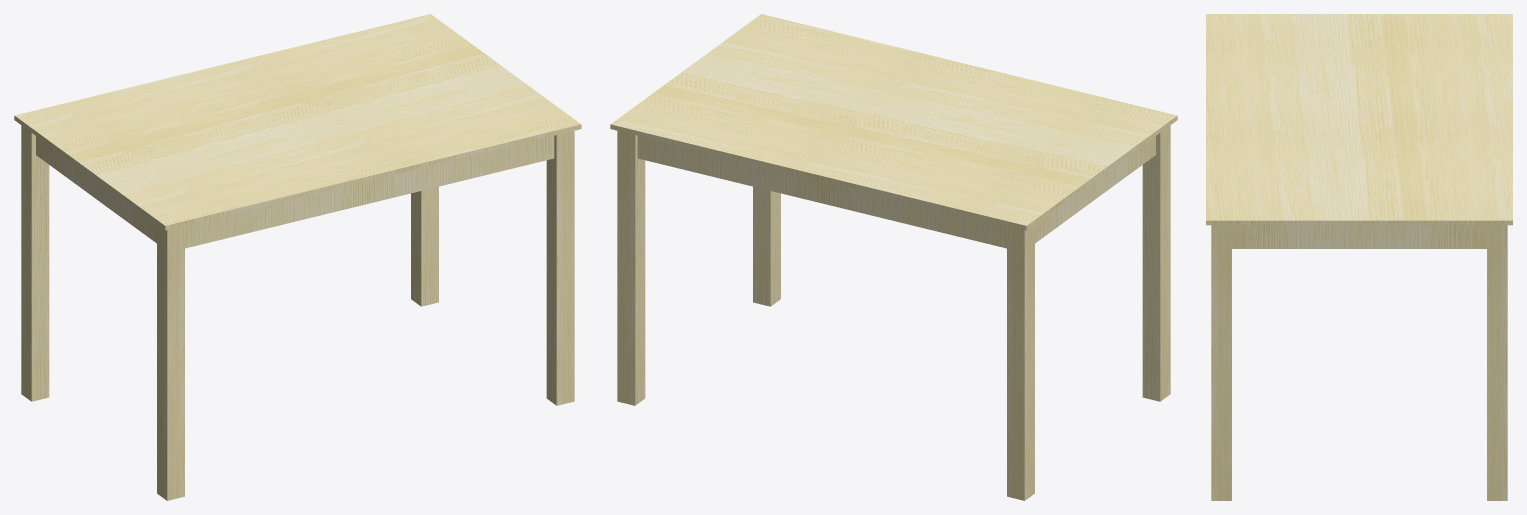
Rendered from ingo_table_1_obj0_object.obj.
3 views of the same model, side by side, from view 1: azimuth 30°, elevation 25°; view 2: azimuth 150°, elevation 25°; view 3: azimuth 270°, elevation 25° (orthographic).
Parts seen in each view (by area): view 1: Mesh2 ingo_table_top1 ingo_table1 Model, Mesh3 ingo_table_leg2 ingo_table1 Model, Mesh4 ingo_table_leg3 ingo_table1 Model, Mesh1 ingo_table_leg1 ingo_table1 Model, Mesh5 ingo_table_leg4 ingo_table1 Model; view 2: Mesh2 ingo_table_top1 ingo_table1 Model, Mesh1 ingo_table_leg1 ingo_table1 Model, Mesh5 ingo_table_leg4 ingo_table1 Model, Mesh3 ingo_table_leg2 ingo_table1 Model, Mesh4 ingo_table_leg3 ingo_table1 Model; view 3: Mesh2 ingo_table_top1 ingo_table1 Model, Mesh4 ingo_table_leg3 ingo_table1 Model, Mesh5 ingo_table_leg4 ingo_table1 Model.
Part boxes in pixels (<box>): Mesh2 ingo_table_top1 ingo_table1 Model: <box>14,14,581,230</box>; Mesh3 ingo_table_leg2 ingo_table1 Model: <box>98,181,368,500</box>; Mesh4 ingo_table_leg3 ingo_table1 Model: <box>368,130,574,405</box>; Mesh1 ingo_table_leg1 ingo_table1 Model: <box>21,125,98,401</box>; Mesh5 ingo_table_leg4 ingo_table1 Model: <box>411,186,438,306</box>; Mesh2 ingo_table_top1 ingo_table1 Model: <box>610,14,1177,230</box>; Mesh1 ingo_table_leg1 ingo_table1 Model: <box>823,181,1093,500</box>; Mesh5 ingo_table_leg4 ingo_table1 Model: <box>617,130,823,405</box>; Mesh3 ingo_table_leg2 ingo_table1 Model: <box>1093,125,1170,401</box>; Mesh4 ingo_table_leg3 ingo_table1 Model: <box>753,186,780,306</box>; Mesh2 ingo_table_top1 ingo_table1 Model: <box>1206,14,1512,225</box>; Mesh4 ingo_table_leg3 ingo_table1 Model: <box>1211,225,1359,500</box>; Mesh5 ingo_table_leg4 ingo_table1 Model: <box>1359,225,1507,500</box>.
Size of the model in its own units: 47 by 30 by 29.5.
